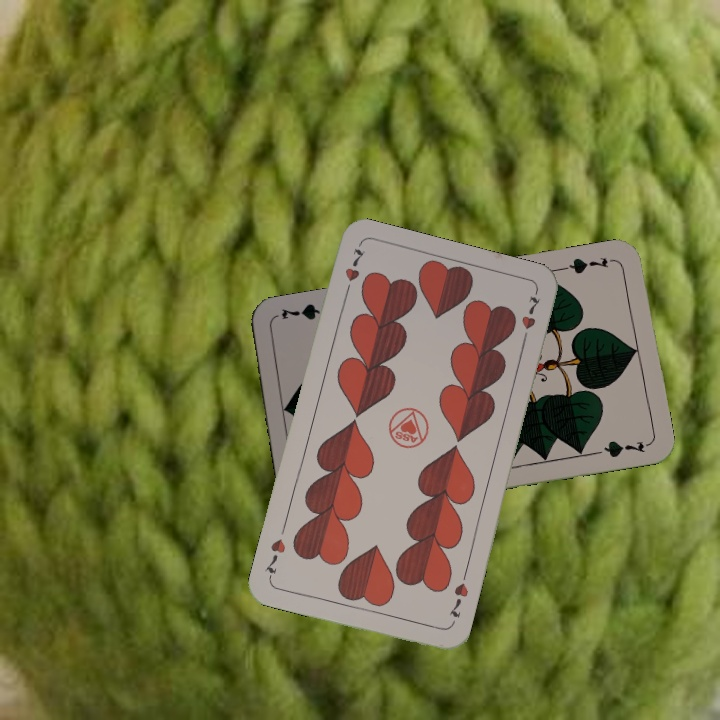G7: (559, 252, 611, 277)
H7: (340, 244, 368, 300), (445, 579, 471, 620)
